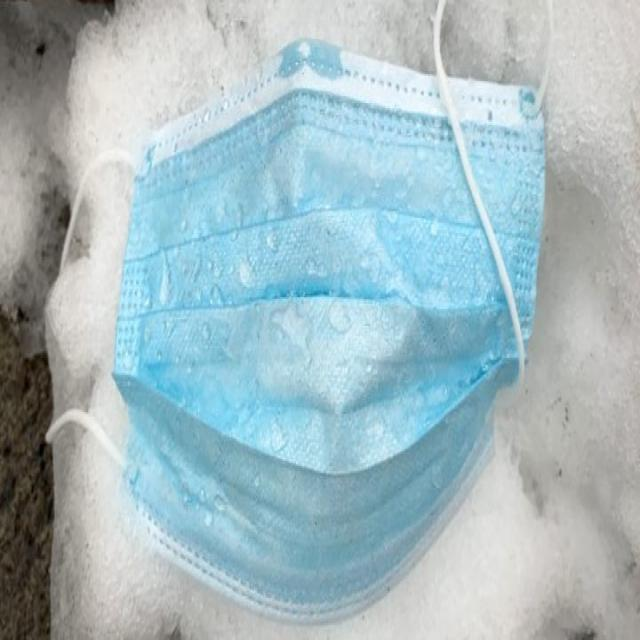non-organic waste: (33, 76, 572, 613)
